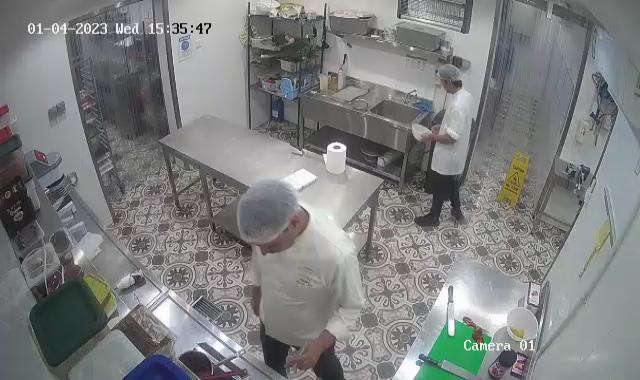hairnet: (237, 178, 298, 240), (437, 64, 465, 86)
